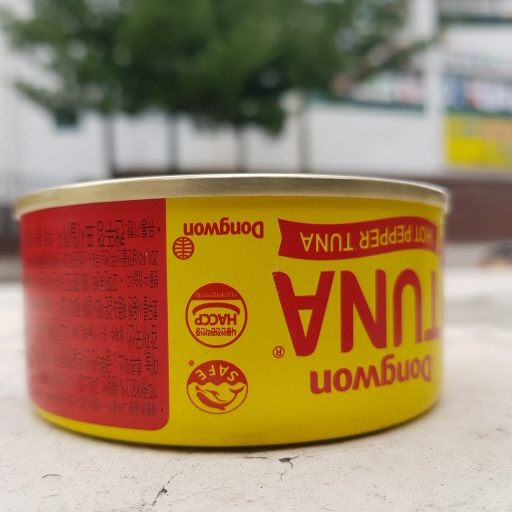Metal_1: (9, 169, 454, 452)
